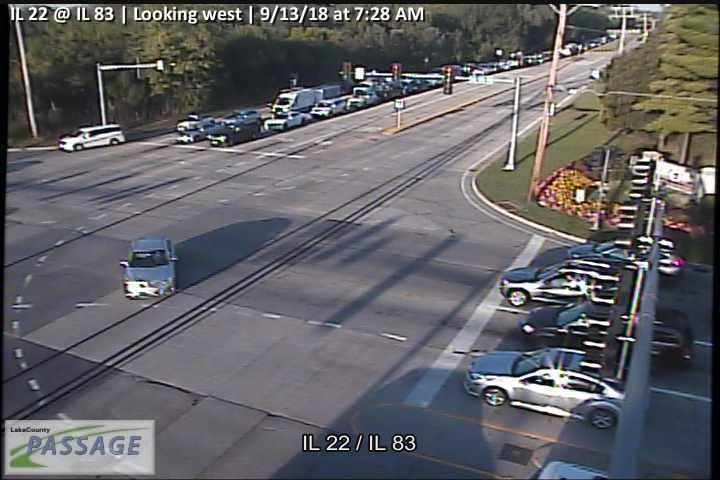SUV: (517, 304, 695, 365), (498, 257, 628, 306), (566, 237, 687, 282), (58, 123, 126, 152), (206, 120, 260, 146), (309, 97, 347, 118)
Sedan: (463, 346, 627, 428), (118, 237, 179, 299), (264, 110, 311, 131), (178, 122, 224, 143)
Truck: (272, 83, 341, 112)
